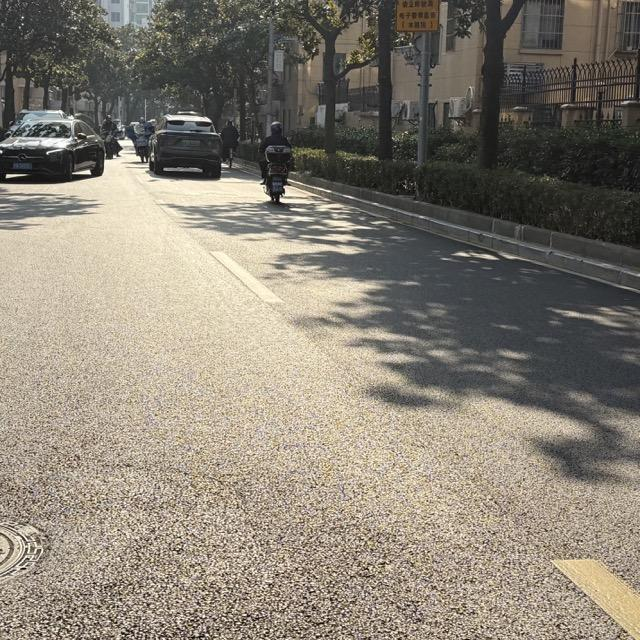curb: (292, 175, 639, 270)
